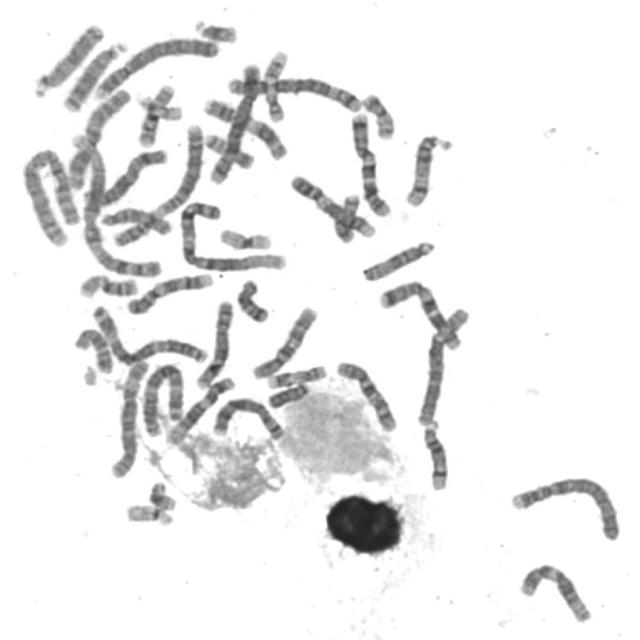A1: (72, 132, 167, 281), (175, 196, 290, 274)
A2: (105, 117, 206, 247), (18, 143, 82, 250)
A3: (86, 299, 211, 367), (138, 358, 187, 438)
B4: (88, 30, 222, 101), (506, 470, 624, 543)
B5: (203, 57, 263, 186), (223, 70, 364, 114)
C10: (247, 300, 320, 382), (332, 356, 400, 434)
C11: (64, 82, 151, 194), (198, 92, 290, 162)
C12: (161, 371, 238, 447), (516, 558, 596, 625)
C6: (412, 301, 472, 429), (104, 355, 150, 480)
C7: (374, 275, 466, 352), (346, 106, 393, 218)
C8: (192, 295, 237, 391), (207, 393, 288, 442)
C9: (285, 169, 378, 239), (123, 268, 215, 316)
D13: (28, 17, 106, 99), (57, 35, 131, 114)
D14: (401, 134, 453, 208), (419, 415, 452, 493)
D15: (358, 235, 438, 284), (96, 206, 174, 237)
E16: (134, 80, 180, 148), (74, 269, 141, 300)
E17: (259, 46, 291, 124), (263, 360, 329, 390)
E18: (70, 324, 115, 376), (232, 274, 272, 325)
F19: (214, 225, 272, 252), (122, 500, 176, 528)
F20: (358, 89, 397, 141), (201, 130, 253, 169)
G21: (190, 13, 241, 45), (144, 477, 180, 512)
G22: (331, 192, 368, 244), (133, 90, 184, 122)
X: (80, 143, 172, 210)
Y: (263, 378, 312, 412)
